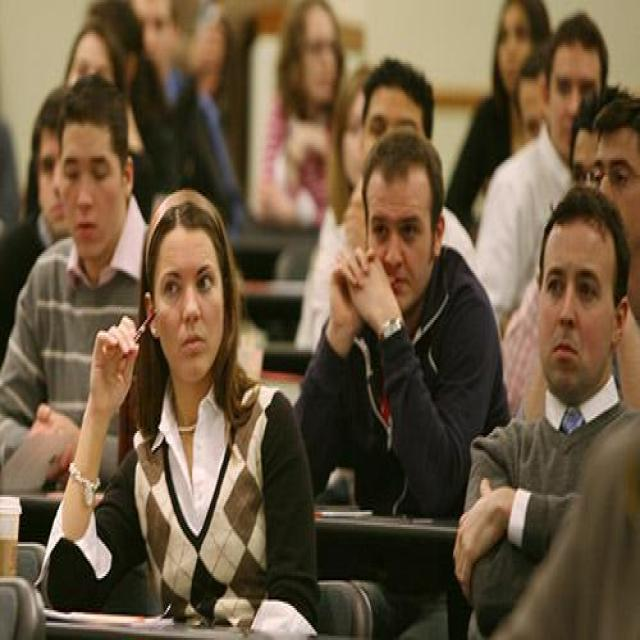head: (539, 179, 632, 403), (138, 190, 234, 392), (364, 128, 446, 314), (56, 83, 133, 267), (357, 49, 435, 184), (332, 58, 392, 218), (589, 109, 637, 286), (24, 92, 82, 235), (563, 79, 620, 220), (517, 47, 572, 166), (58, 19, 114, 124)
